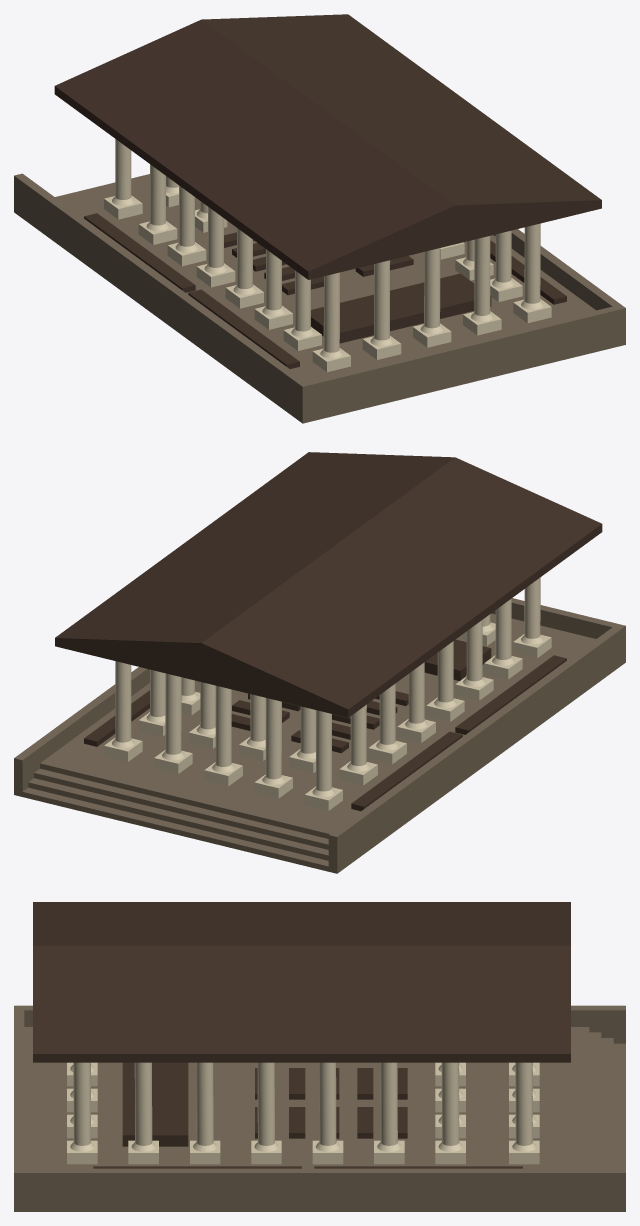
The model's file is AncientGreed.fbx.
The picture shows the model from 3 angles, top to bottom: view 1: azimuth 30°, elevation 25°; view 2: azimuth 150°, elevation 25°; view 3: azimuth 270°, elevation 25°; orthographic projection. The views are drawn at different scales.
Visible parts, largest first — view 1: Object_143; view 2: Object_143; view 3: Object_143.
Boxes of the visible parts, x1,y1,x2,y2 form: Object_143: (14, 14, 625, 423); Object_143: (14, 452, 625, 873); Object_143: (14, 902, 625, 1211).
Size of the model in its own units: 322 by 164 by 499.
